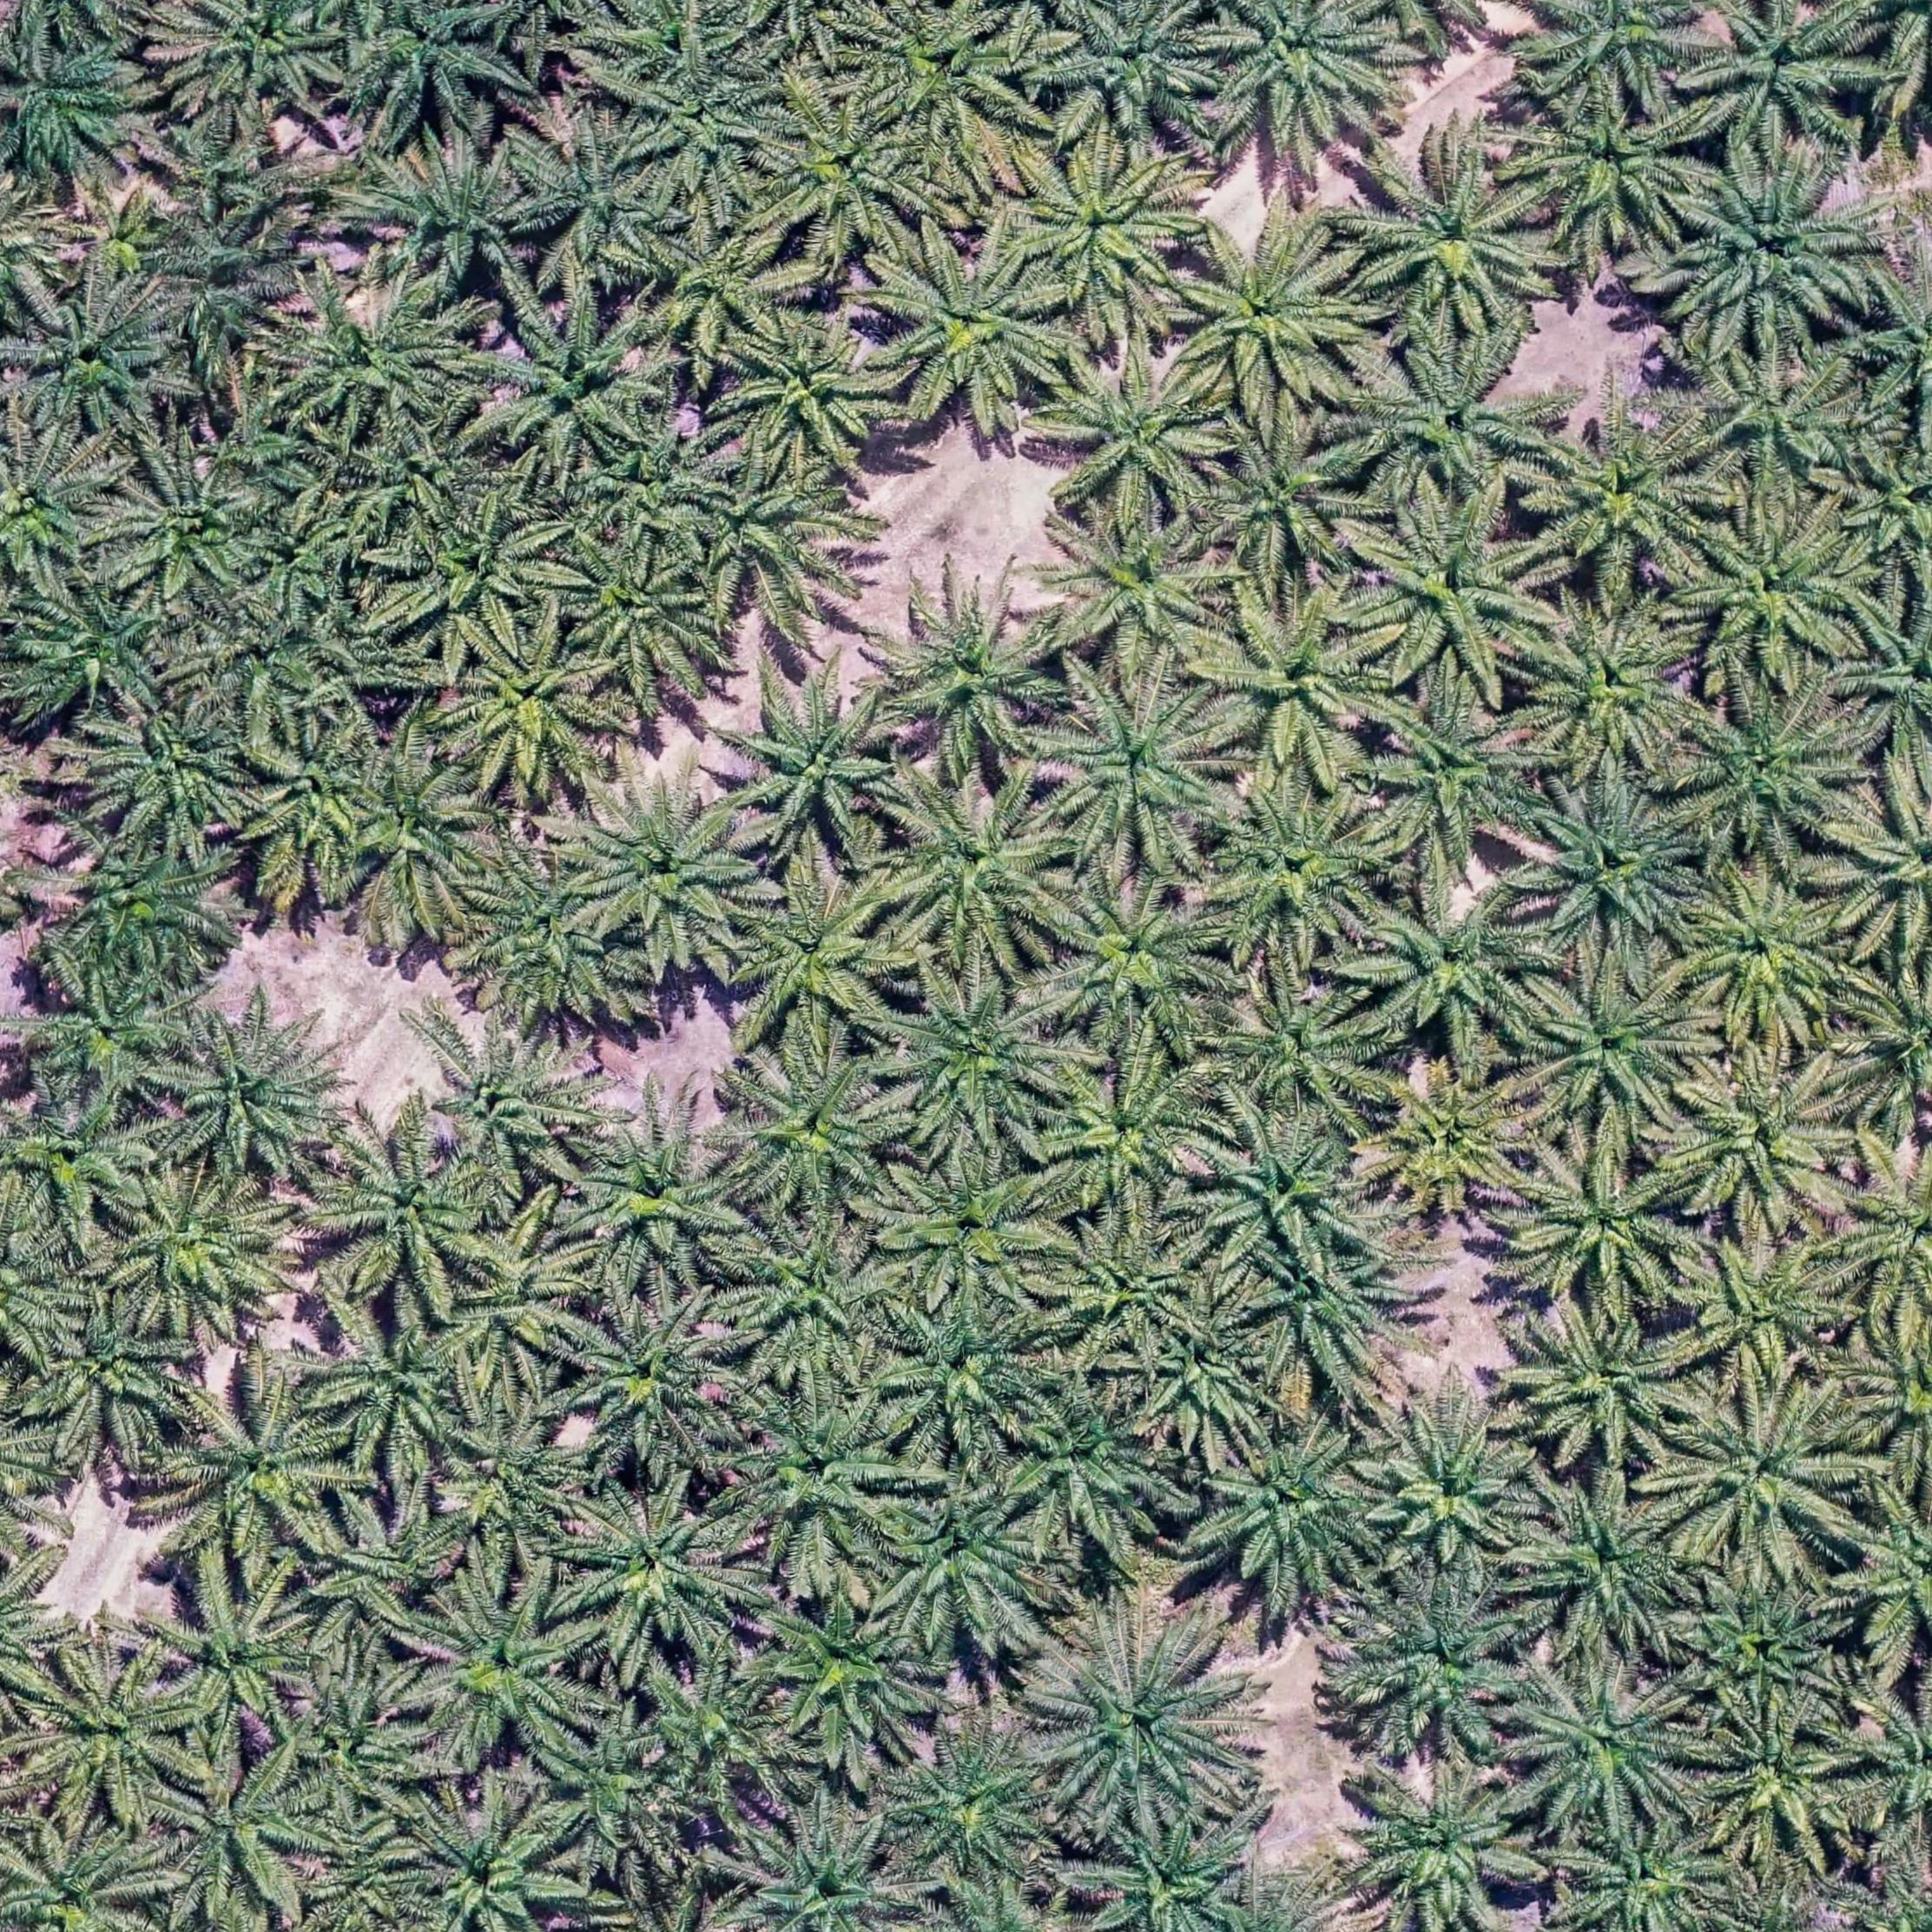palmtree: (1033, 1612, 1255, 1823), (1667, 147, 1890, 353), (1356, 488, 1561, 687), (1670, 1385, 1871, 1573), (1353, 331, 1559, 514), (1190, 1417, 1390, 1605), (1668, 1047, 1867, 1235), (1177, 222, 1374, 411), (570, 772, 767, 960), (1197, 588, 1395, 775), (1356, 146, 1559, 329), (412, 1576, 603, 1766), (876, 237, 1071, 424), (160, 1378, 354, 1565), (1338, 1575, 1532, 1760), (1530, 410, 1725, 593), (722, 669, 913, 855), (1048, 677, 1243, 860), (882, 775, 1073, 961), (670, 455, 860, 641), (880, 581, 1070, 765), (1509, 1657, 1705, 1835), (755, 1585, 943, 1770), (157, 1001, 347, 1184), (476, 296, 669, 476), (1684, 500, 1876, 679), (1049, 343, 1239, 523), (1369, 686, 1557, 867), (1366, 879, 1559, 1055), (1506, 1137, 1700, 1311), (106, 1169, 303, 1341), (1517, 778, 1707, 956), (1513, 1481, 1701, 1659), (1010, 144, 1199, 321), (566, 1110, 755, 1287), (565, 1486, 755, 1663), (314, 1124, 505, 1299), (873, 1476, 1059, 1655), (1523, 962, 1711, 1139), (1048, 499, 1240, 672), (1197, 0, 1405, 158), (1343, 1759, 1540, 1926), (1368, 1398, 1549, 1578), (1517, 86, 1712, 253), (1518, 601, 1705, 774), (1197, 416, 1380, 593), (1207, 782, 1395, 953), (1513, 1302, 1703, 1472), (565, 1291, 745, 1470), (886, 974, 1072, 1147), (1686, 867, 1869, 1042), (1681, 684, 1869, 854), (445, 622, 623, 799), (1197, 1113, 1384, 1280), (1052, 879, 1234, 1049), (734, 1393, 918, 1560), (277, 279, 469, 439), (1687, 0, 1883, 156), (884, 1722, 1067, 1889), (1247, 1233, 1434, 1396), (358, 141, 547, 301), (884, 1155, 1067, 1321), (25, 1649, 201, 1821), (458, 860, 632, 1033), (732, 1043, 911, 1210), (1696, 1703, 1872, 1871), (733, 877, 910, 1045), (1675, 1566, 1857, 1728), (1676, 1228, 1860, 1388), (50, 828, 239, 983), (336, 749, 501, 926), (762, 99, 936, 265), (427, 1024, 600, 1190), (727, 315, 907, 474), (1685, 351, 1872, 504), (89, 689, 264, 852), (153, 1571, 323, 1737), (854, 3, 1038, 156), (392, 492, 571, 650), (314, 1303, 484, 1469), (551, 537, 725, 697), (1370, 1061, 1546, 1219), (155, 1754, 323, 1919), (1005, 1387, 1175, 1550), (1040, 1055, 1220, 1210), (614, 43, 786, 204), (17, 286, 191, 445), (112, 456, 281, 615), (33, 1296, 196, 1460), (1212, 974, 1390, 1124), (398, 1792, 588, 1932), (882, 1300, 1051, 1454), (732, 1217, 910, 1362), (440, 1399, 602, 1559), (311, 1489, 475, 1645), (26, 967, 196, 1118), (1509, 0, 1718, 122), (18, 574, 186, 723), (514, 128, 676, 280), (1050, 0, 1226, 140), (136, 214, 299, 364), (276, 1665, 434, 1817), (535, 1718, 690, 1873), (0, 32, 154, 188), (730, 1810, 926, 1932), (1124, 1297, 1280, 1450), (450, 1221, 597, 1381), (162, 0, 346, 124), (353, 0, 527, 130), (654, 216, 807, 364), (636, 1662, 792, 1807), (1073, 1813, 1260, 1932), (341, 407, 502, 544), (1045, 1217, 1207, 1352), (242, 721, 387, 870), (575, 406, 729, 545), (1557, 1811, 1729, 1932), (1828, 770, 1932, 960), (205, 597, 346, 735), (0, 428, 121, 589), (1830, 1143, 1932, 1322), (1, 1823, 163, 1932), (1836, 960, 1932, 1140), (162, 120, 306, 236), (1836, 1682, 1932, 1855), (1839, 589, 1932, 762), (63, 181, 189, 294), (311, 1817, 433, 1932), (241, 504, 361, 619)
